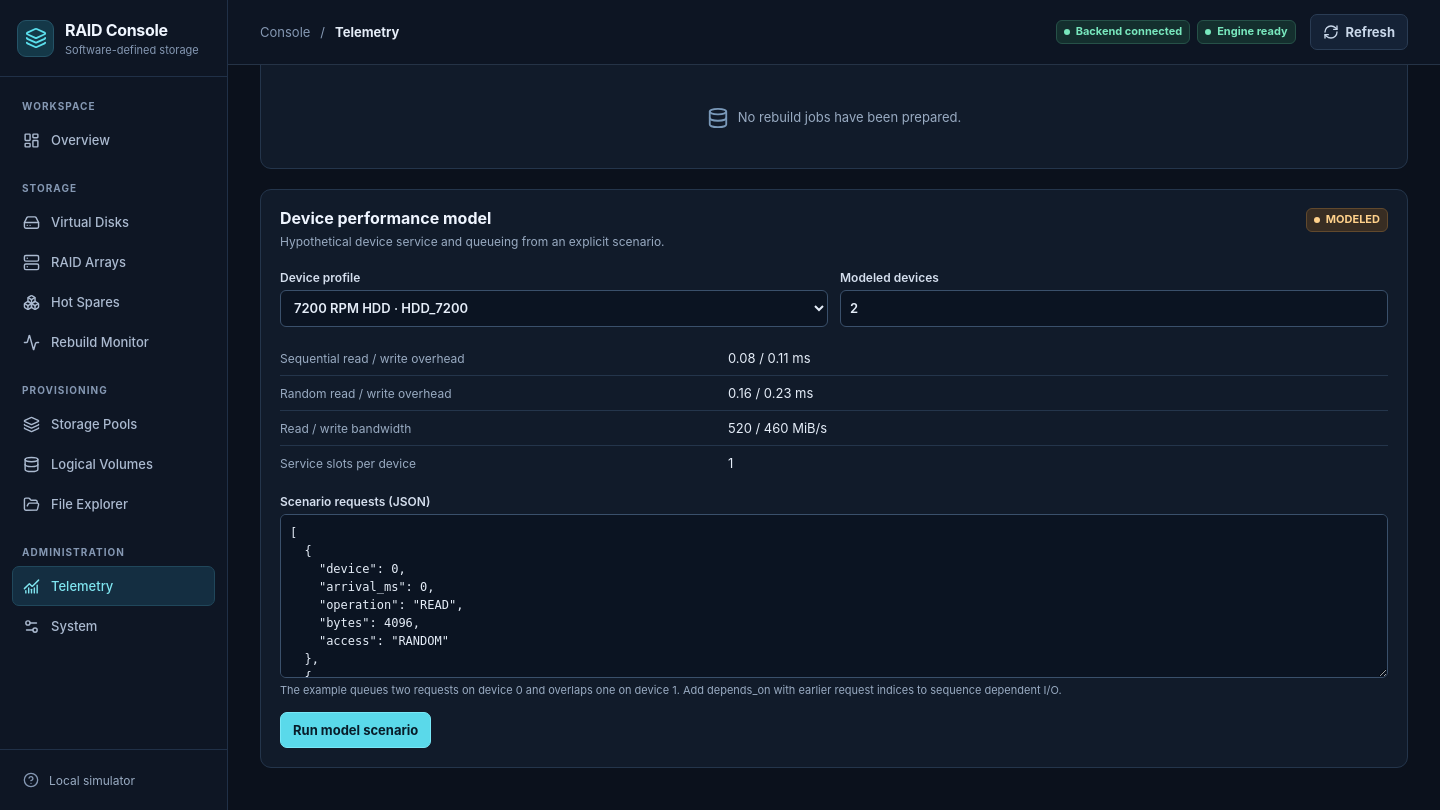
storage telemetry › keeps model failures separate from the mutation outcome guard
(page scrolled)
Click the button "Run model scenario" at (356, 730), box [280,712,431,748]
(page scrolled)
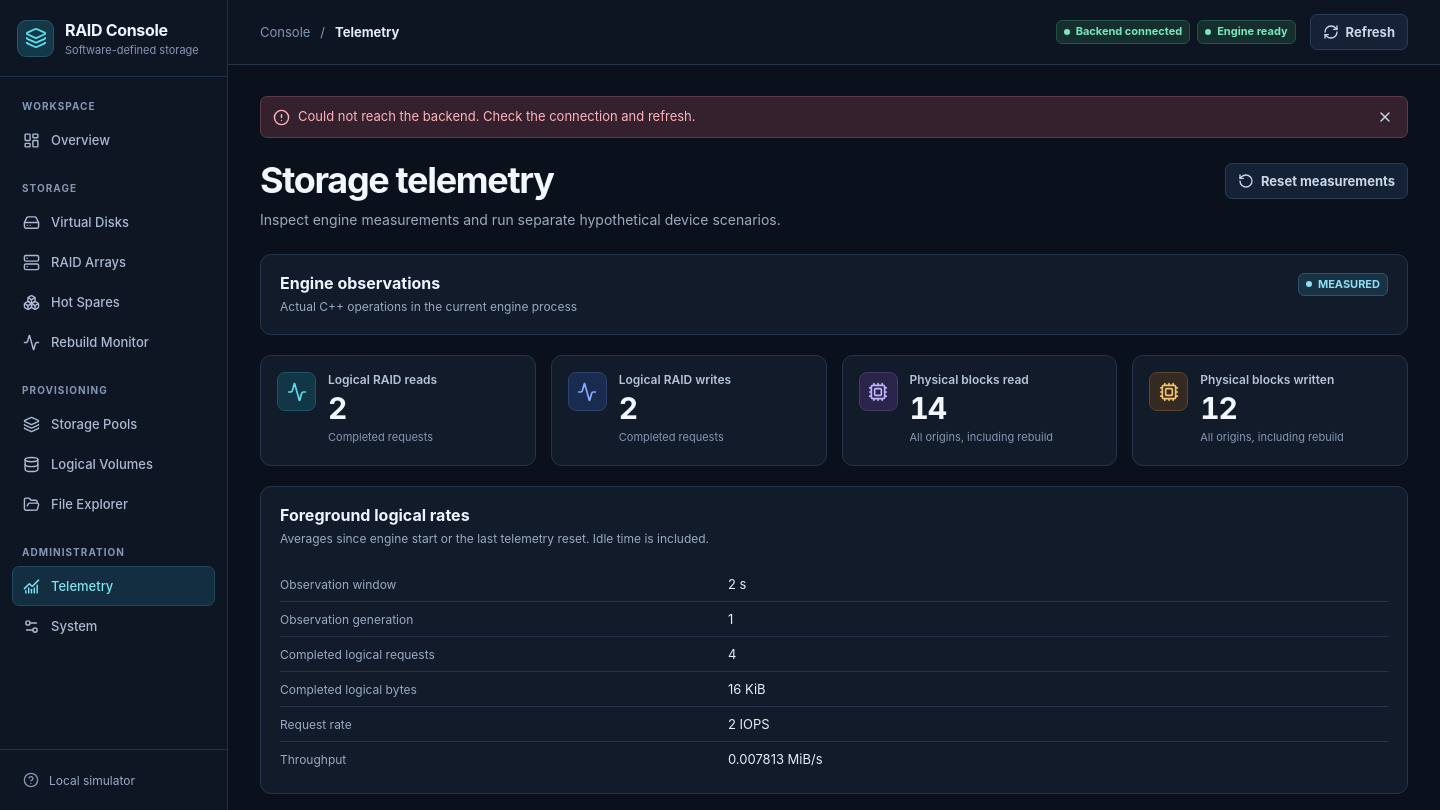
expect the button "Reset measurements" is enabled: met, box [1225,162,1408,198]
expect the text "Could not reach the backend" is shown: met, box [298,108,696,124]
